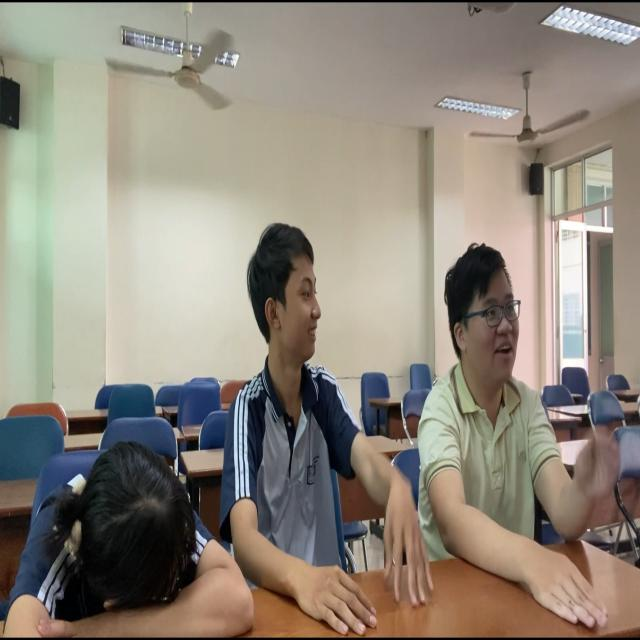sleep: (1, 433, 257, 640)
